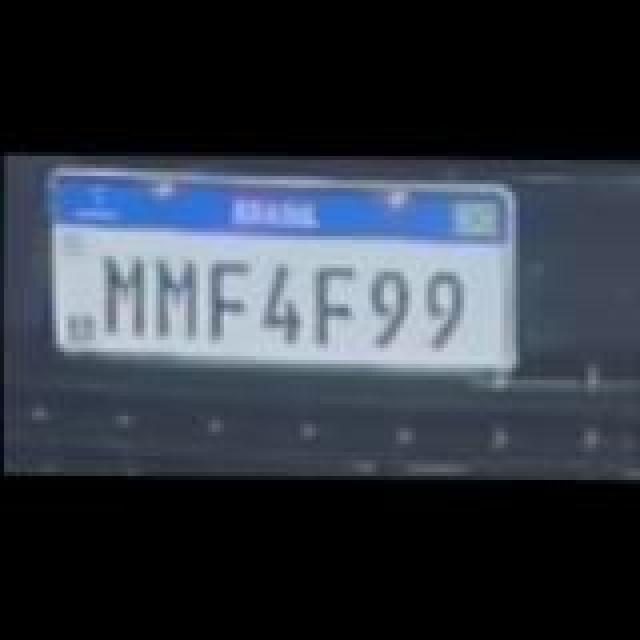4: (262, 262, 302, 342)
9: (368, 272, 412, 352), (426, 272, 466, 352)
F: (312, 264, 356, 348), (208, 260, 252, 340)
M: (152, 260, 196, 340), (104, 256, 148, 336)
